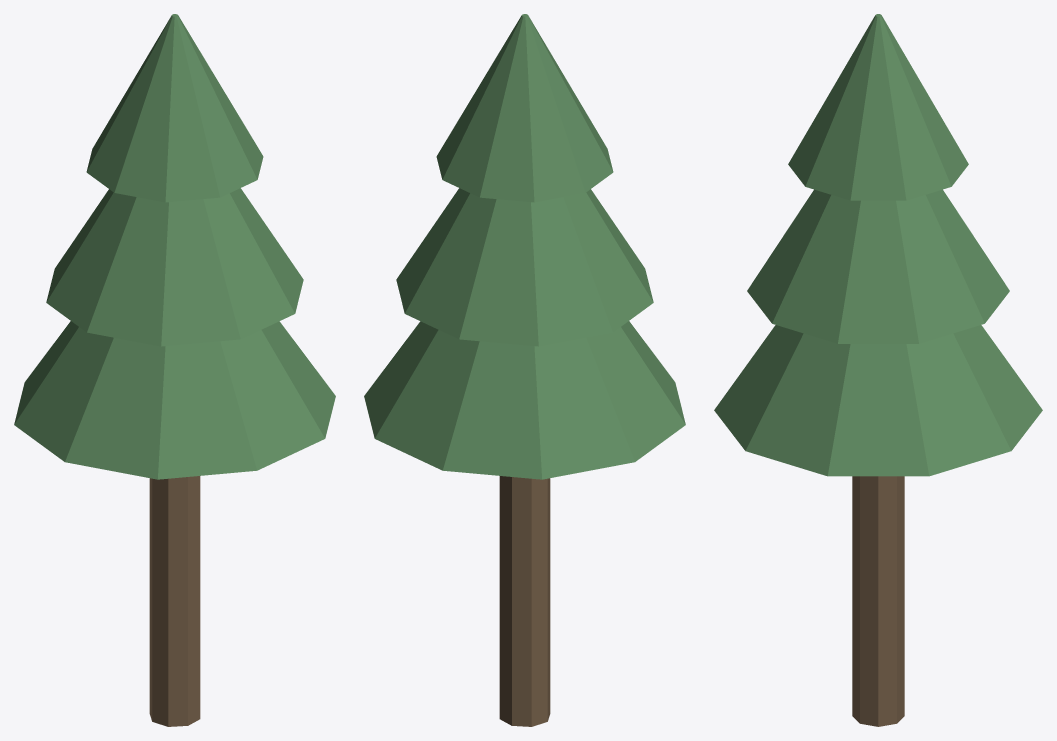
Rendered from tree_pine.fbx.
The picture shows the model from 3 angles, left to right: view 1: azimuth 30°, elevation 25°; view 2: azimuth 150°, elevation 25°; view 3: azimuth 270°, elevation 25°; orthographic projection.
Visible parts, largest first — view 1: tree_pine; view 2: tree_pine; view 3: tree_pine.
Boxes of the visible parts, x1,y1,x2,y2 form: tree_pine: (14, 14, 335, 726); tree_pine: (364, 14, 685, 726); tree_pine: (714, 14, 1042, 726).
Size of the model in its own units: 1.9 by 4.7 by 2.
